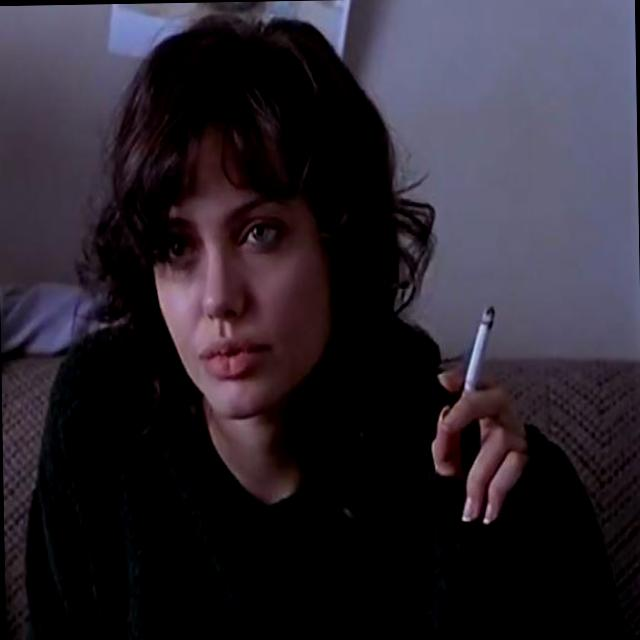smoke: (454, 284, 520, 417)
